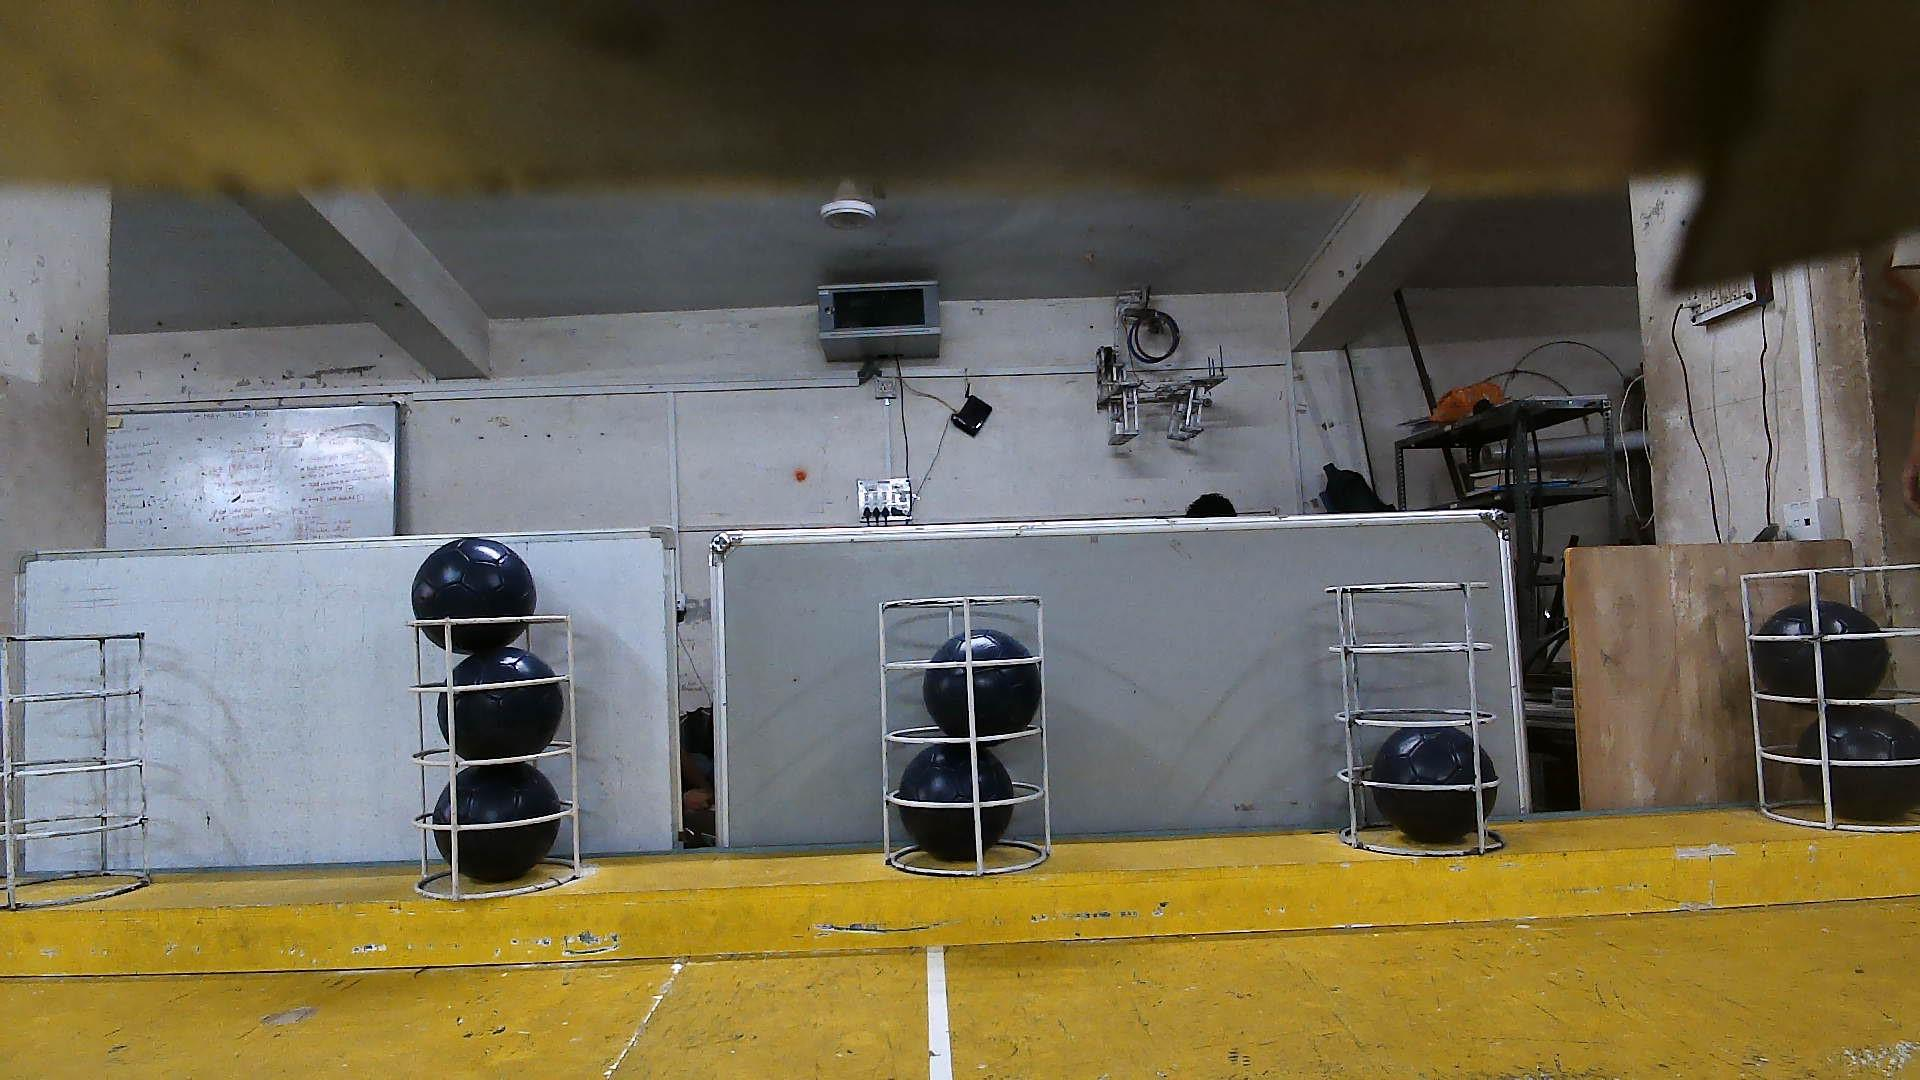dhoka: (435, 764, 559, 882), (1795, 705, 1920, 819), (413, 537, 531, 654), (439, 647, 560, 758), (1374, 729, 1494, 840), (1758, 607, 1882, 712), (901, 745, 1013, 857), (924, 629, 1040, 736)
